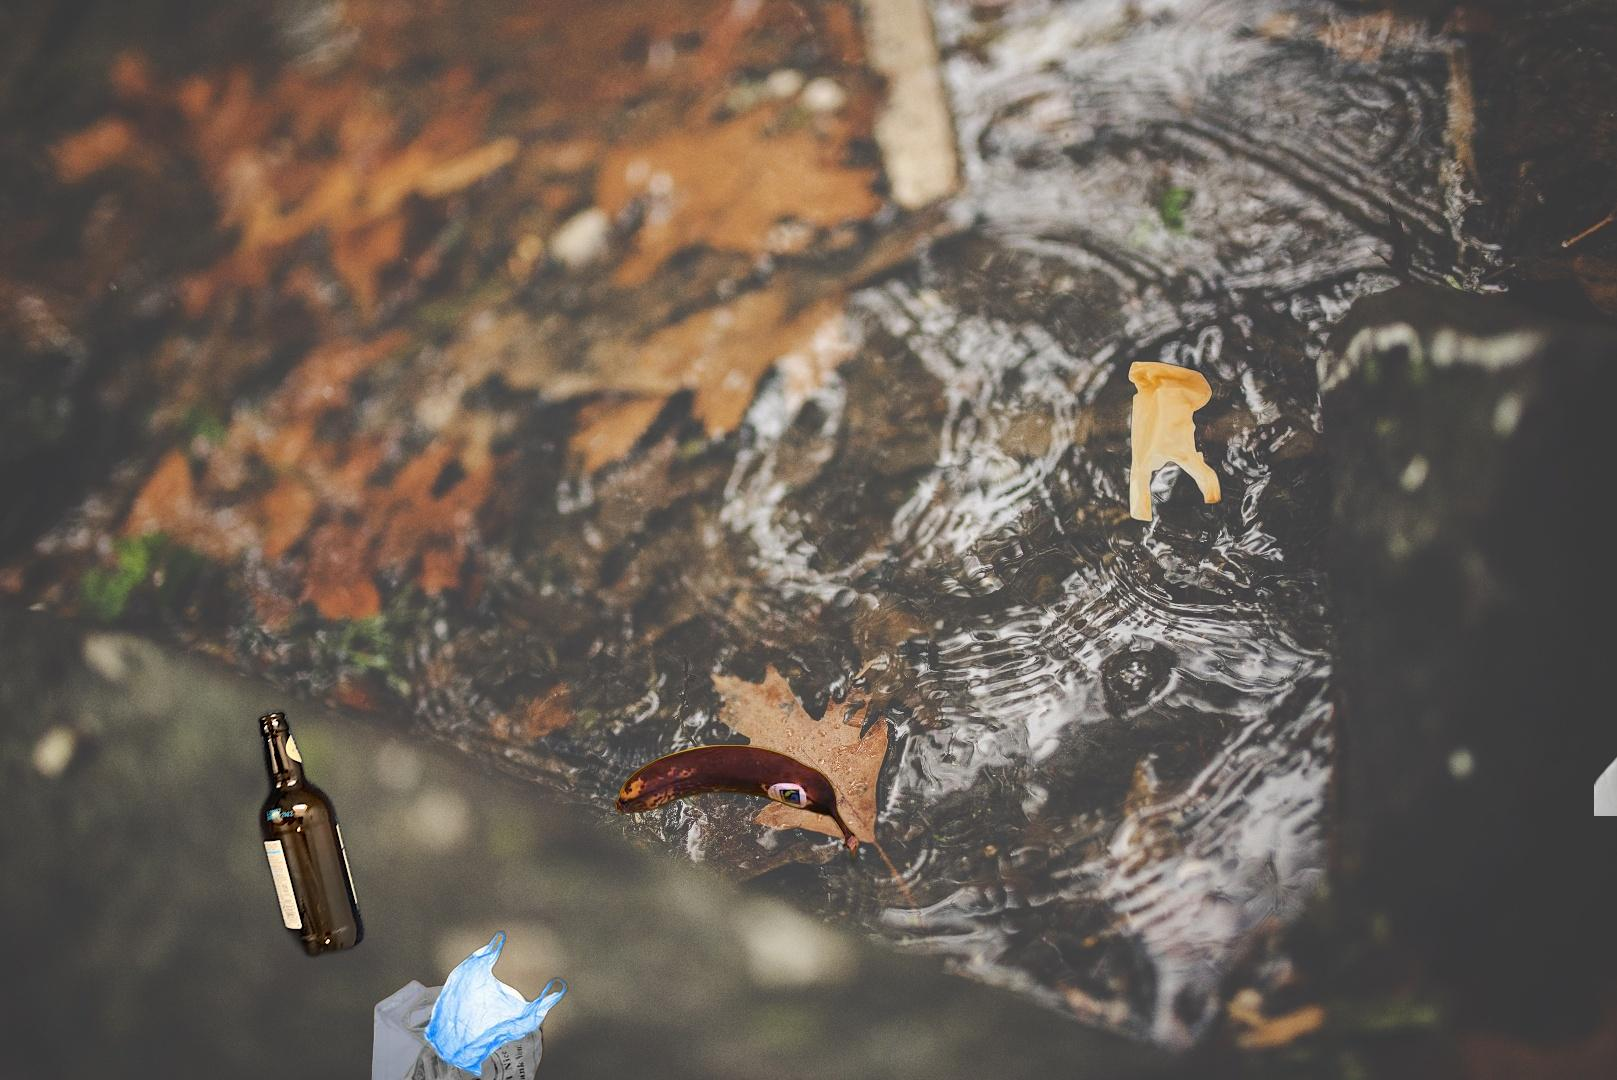biological: (612, 742, 866, 869)
glass: (255, 704, 369, 963)
paper: (1594, 524, 1617, 816)
plastic-bag: (369, 931, 571, 1080), (1125, 358, 1224, 526)
